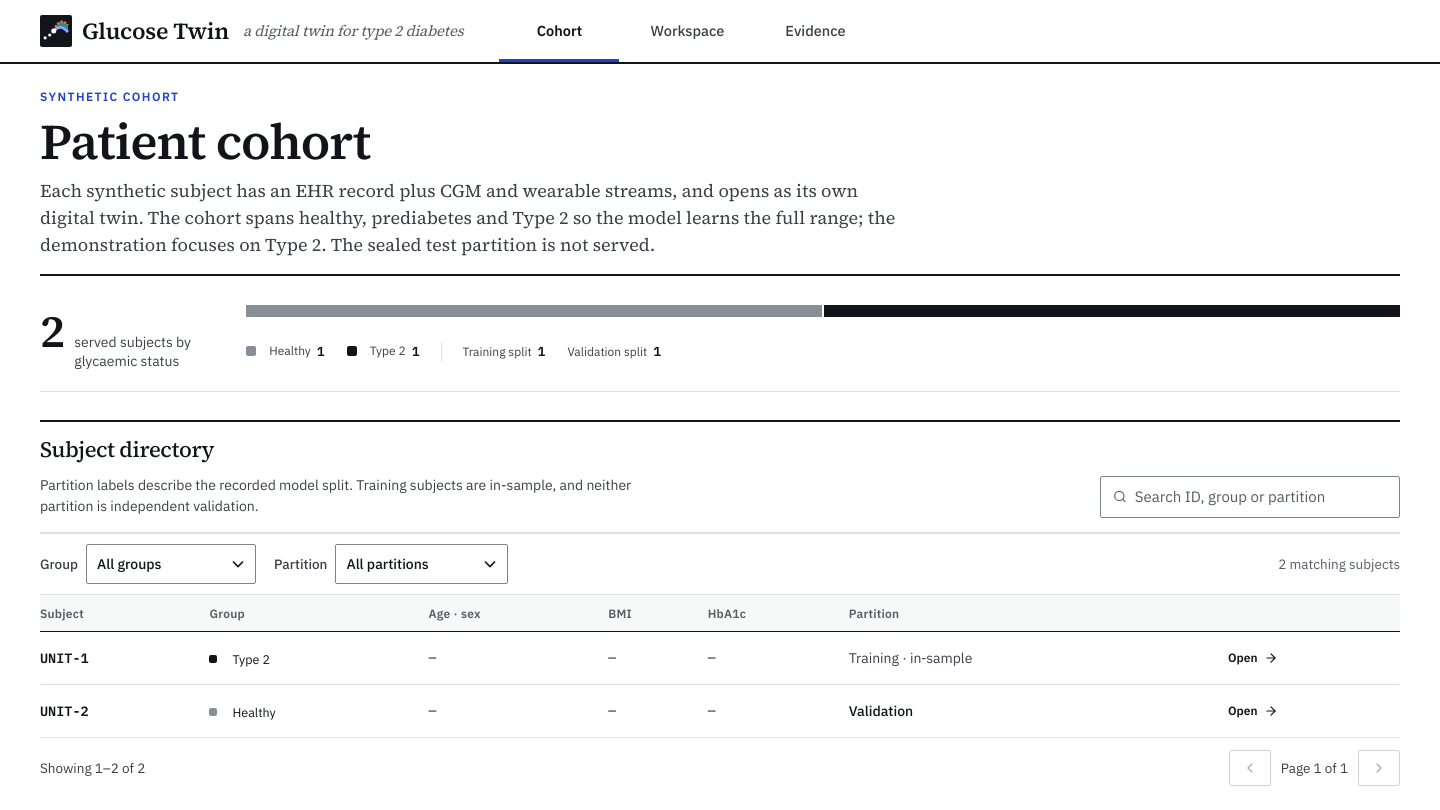
Scenario: Cohort directory and Workspace entry › combines group, partition, and trimmed search without changing subject destinations
This screenshot has width=1440, height=810.
Expected: the link with aria-label "Open subject UNIT-1" is shown, [1228,650,1278,665]
Select "Healthy" in the dropdown labelled "Group" at {"x": 171, "y": 564}, box [86,544,256,584]
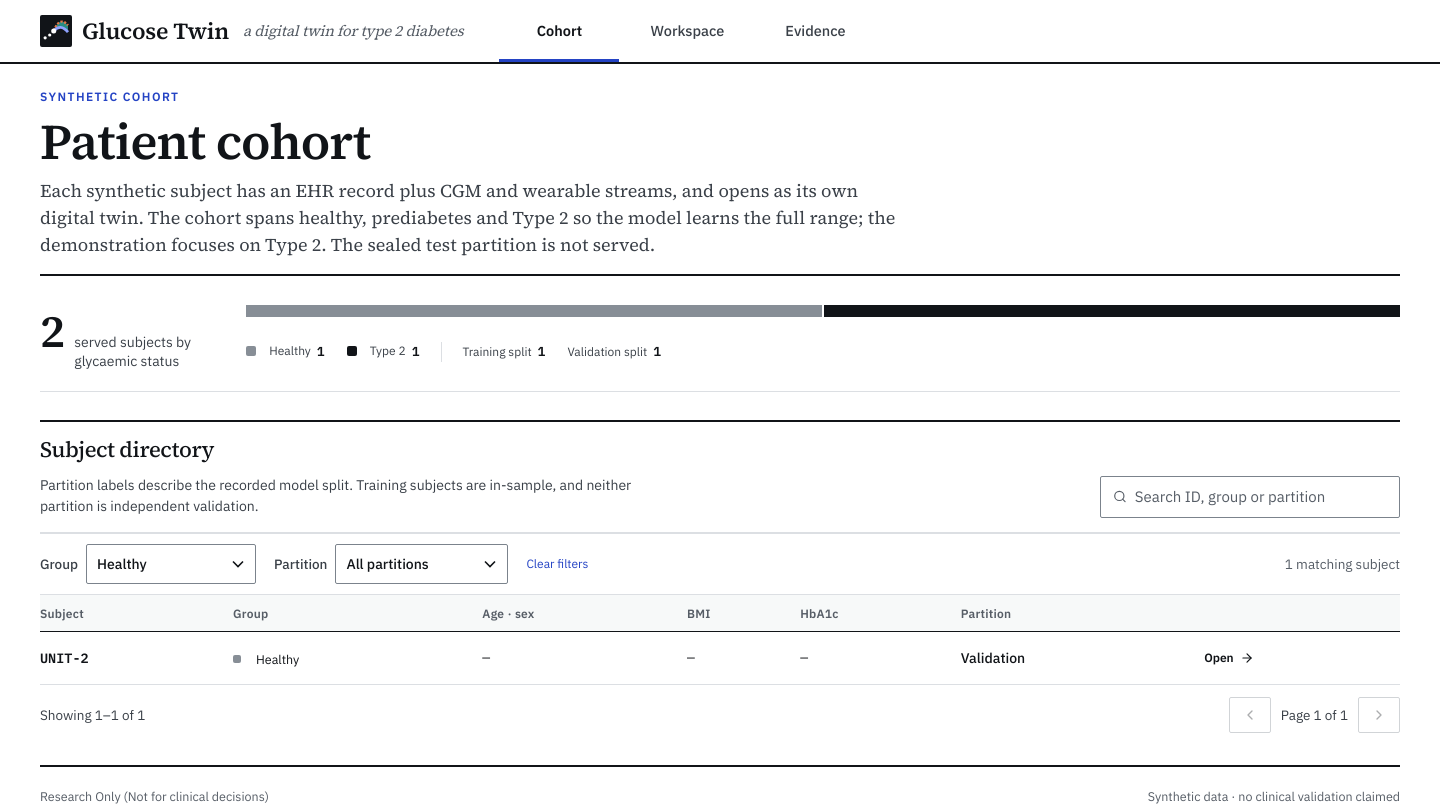
Select "Validation" in the dropdown labelled "Partition" at {"x": 422, "y": 564}, box [335,544,508,584]
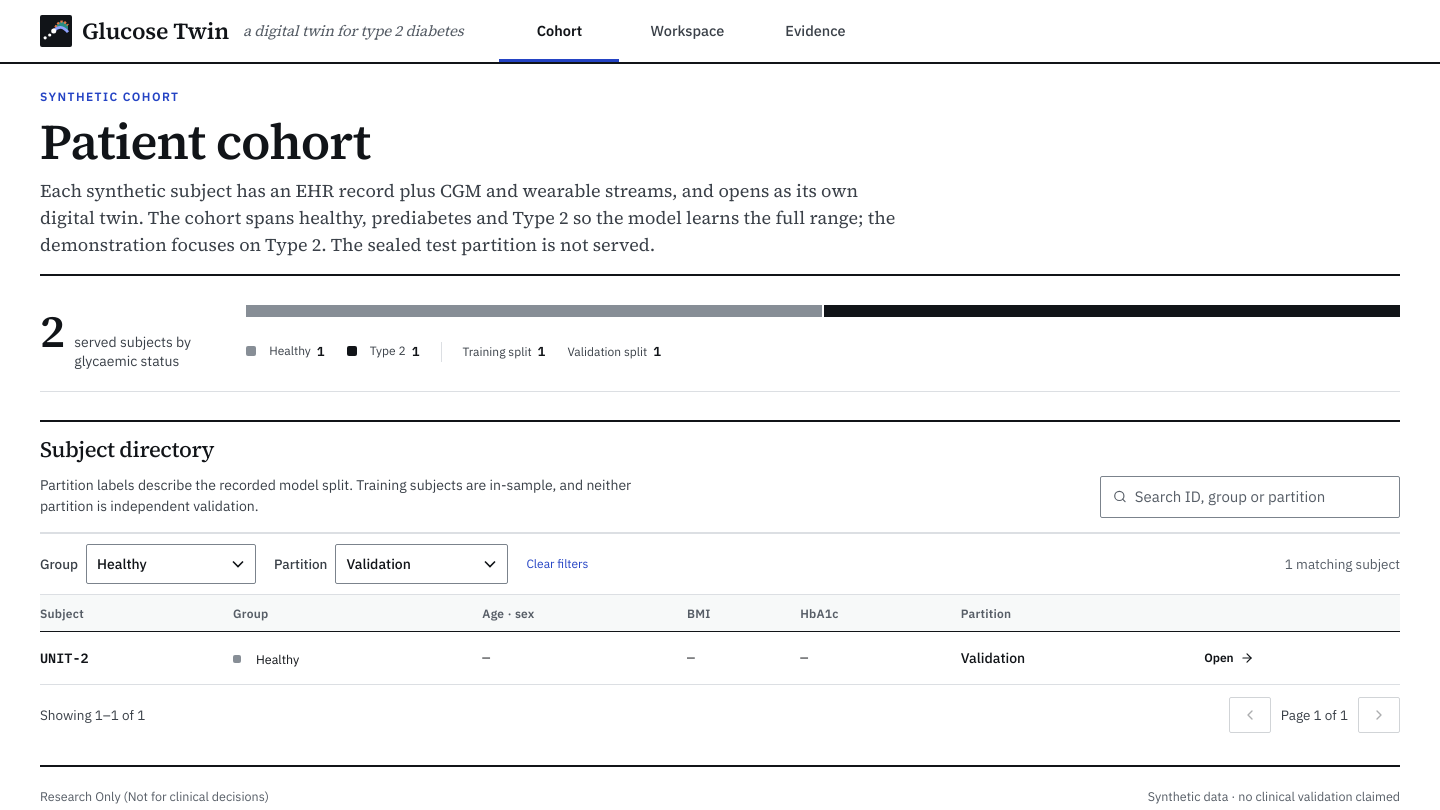
Type "  unit-2  " into the search field at {"x": 1261, "y": 497}, box [1135,477,1387,517]
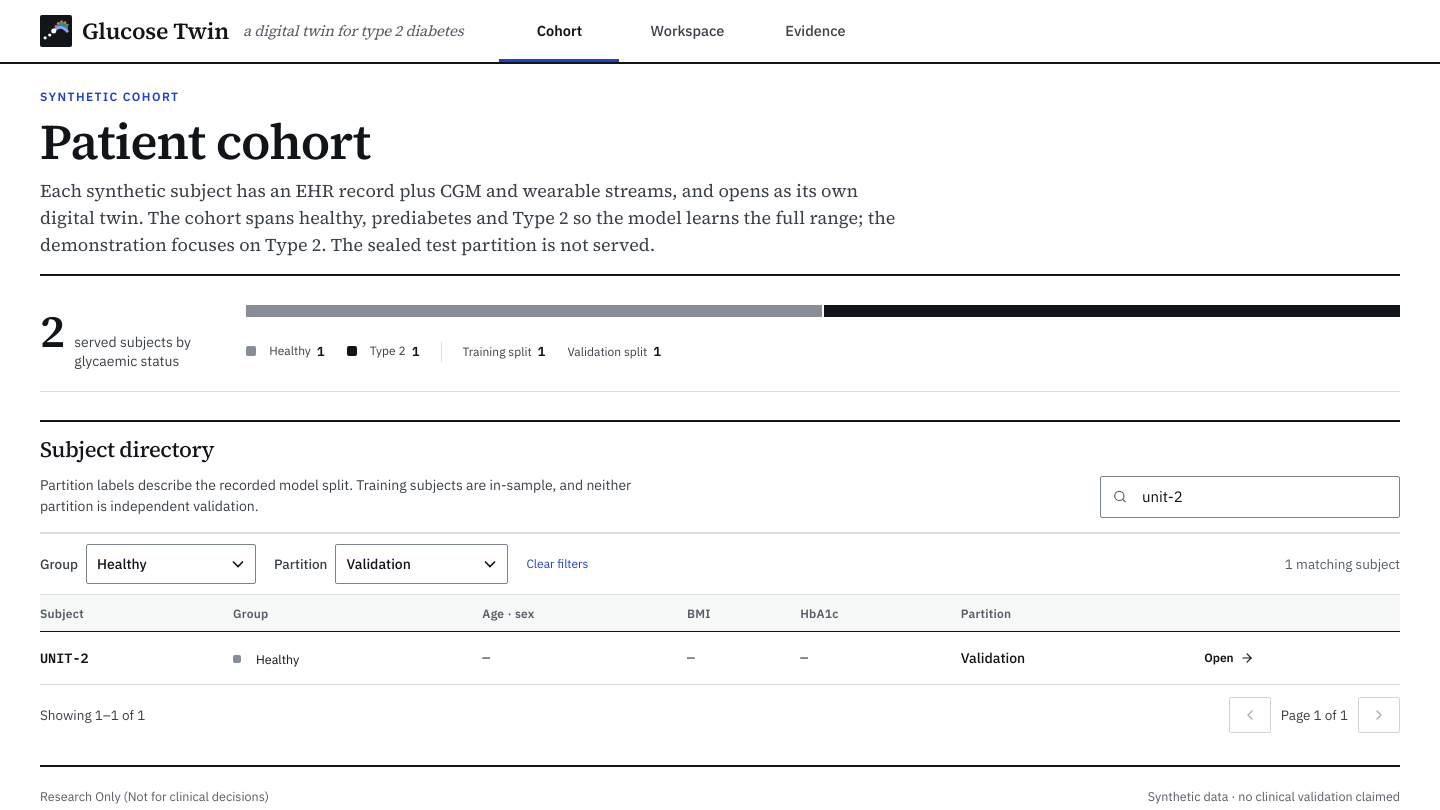
Click the button "Clear filters" at {"x": 557, "y": 564}, box [526,549,588,579]
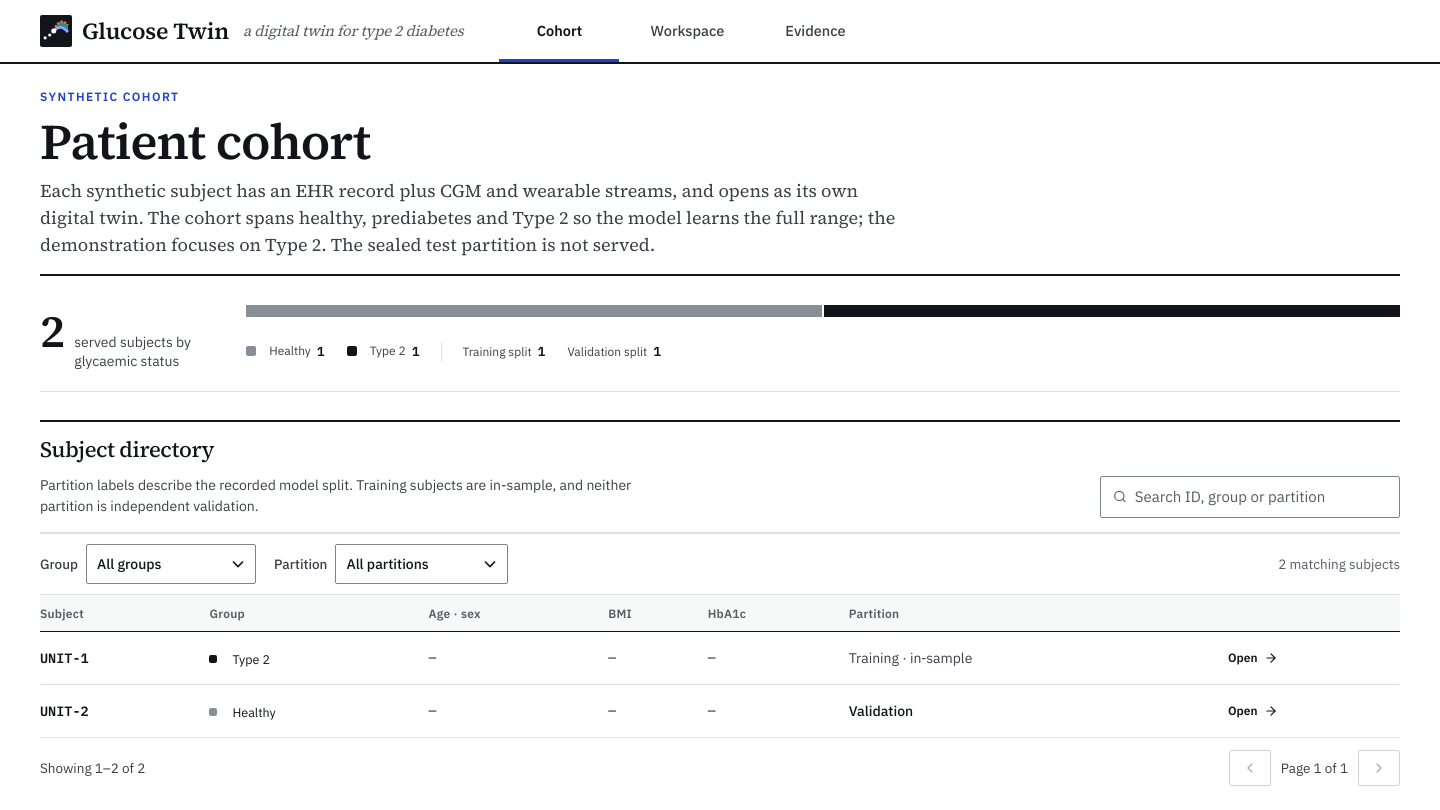
Result: the link with aria-label "Open subject UNIT-1" is shown at [1228,650,1278,665]
